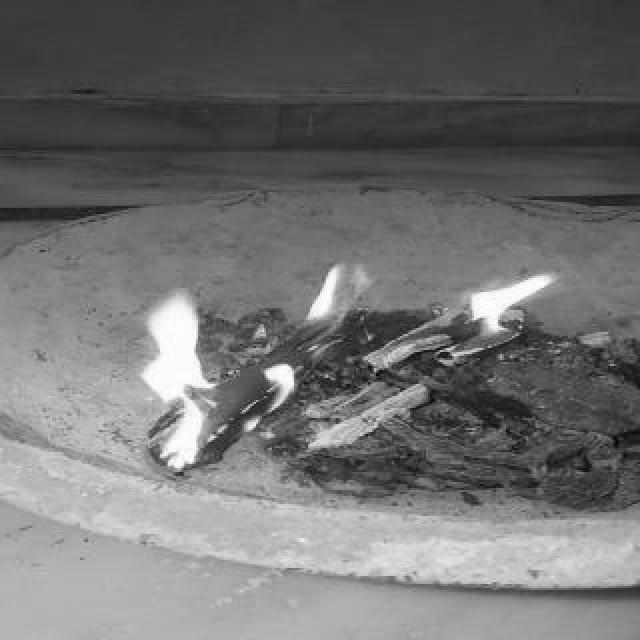Fire: (132, 256, 392, 484), (454, 254, 568, 350)
